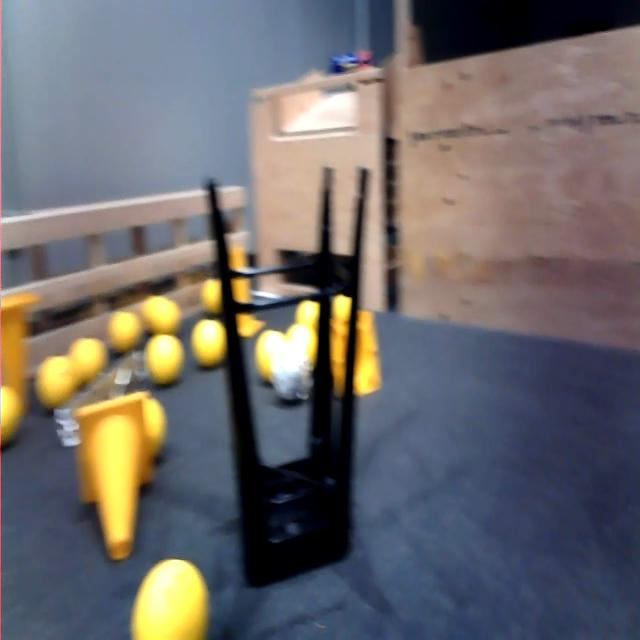fuel: (132, 546, 215, 640), (134, 384, 173, 463), (140, 328, 186, 392), (36, 356, 80, 413), (192, 309, 229, 376), (69, 332, 113, 388), (0, 372, 29, 456), (285, 319, 319, 371), (140, 292, 181, 334), (110, 299, 139, 353), (254, 324, 283, 377), (197, 270, 227, 314), (329, 287, 353, 324), (296, 297, 318, 323)
